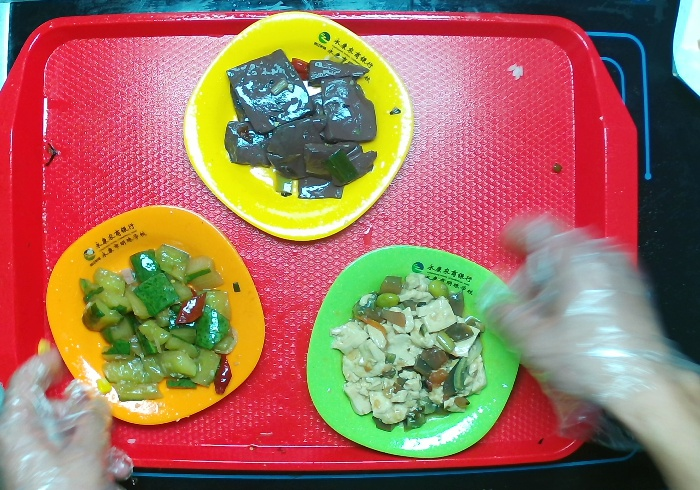YKMZ-Huang_Se_Fang_Die: (185, 8, 413, 239)
YKMZ-Ju_Se_Fang_Die: (44, 205, 268, 430)
YKMZ-Lv_Se_Fang_Die: (304, 243, 527, 457)
